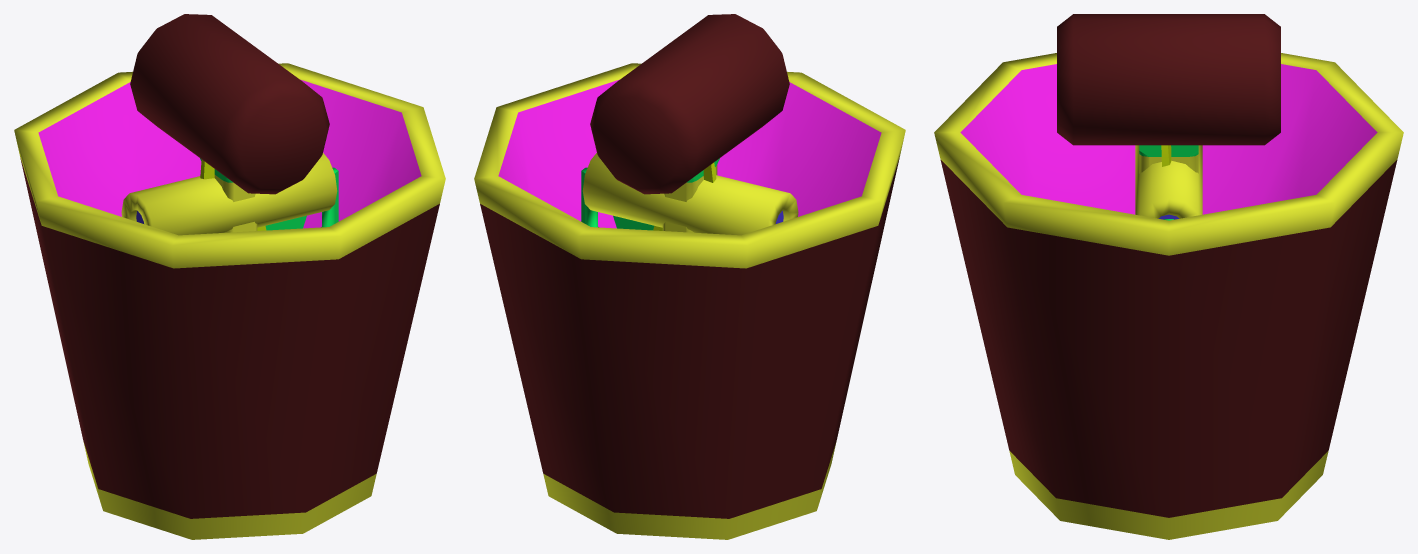
Rendered from equipmentbox.fbx.
3 renders of one model, left to right at view 1: azimuth 30°, elevation 25°; view 2: azimuth 150°, elevation 25°; view 3: azimuth 270°, elevation 25°, orthographic. The views are drawn at different scales.
Parts seen in each view (by area): view 1: kova, tokmak, rulo; view 2: kova, tokmak, rulo; view 3: kova, tokmak, rulo.
Boxes of the visible parts, left/top/right/bottom form: kova: left=14, top=63, right=445, bottom=539; tokmak: left=130, top=14, right=329, bottom=232; rulo: left=121, top=153, right=338, bottom=235; kova: left=474, top=63, right=905, bottom=539; tokmak: left=590, top=14, right=789, bottom=232; rulo: left=581, top=153, right=798, bottom=235; kova: left=934, top=53, right=1403, bottom=539; tokmak: left=1057, top=14, right=1280, bottom=173; rulo: left=1135, top=145, right=1202, bottom=220.
Bounding box in the file's own units: 44.08 × 47.11 × 44.08.
